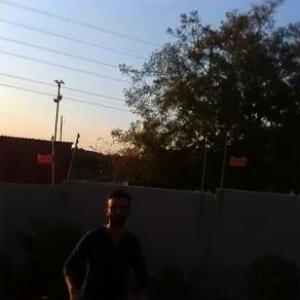follow: (58, 178, 151, 299)
